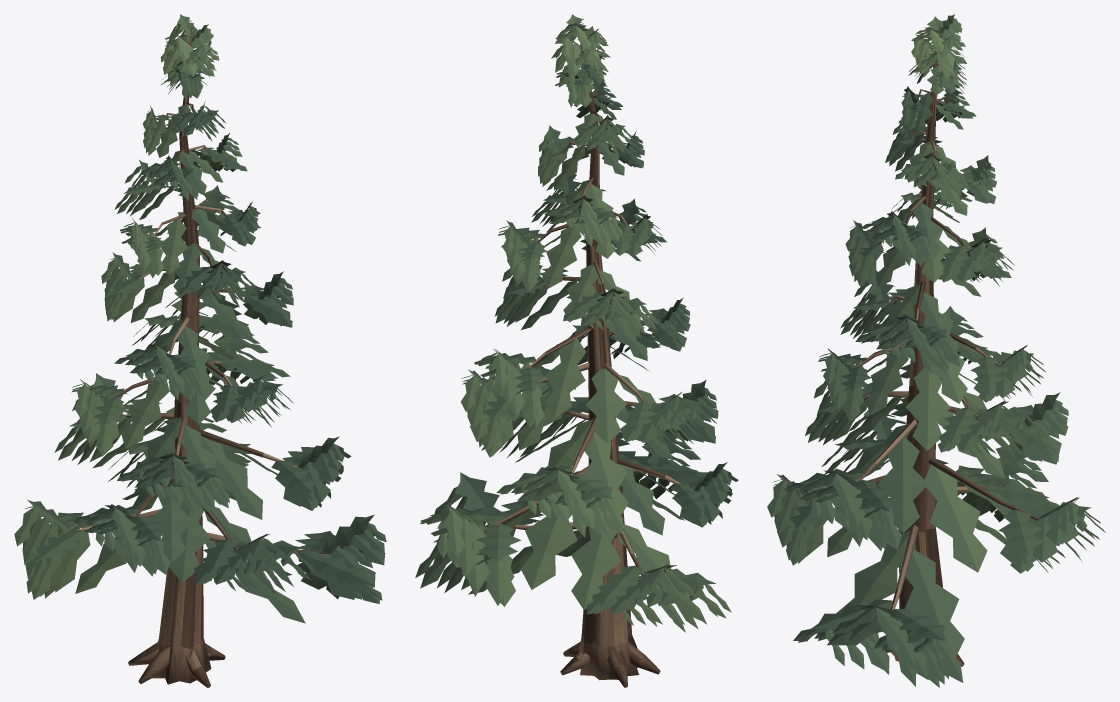
File: ridge-cedar.glb
3 views of the same model, side by side, from view 1: azimuth 30°, elevation 25°; view 2: azimuth 150°, elevation 25°; view 3: azimuth 270°, elevation 25° (orthographic).
Visible parts, largest first — view 1: Ridge Cedar Leaf pendant sprays, Ridge Cedar Trunk and buttresses, Ridge Cedar Branch scaffolds; view 2: Ridge Cedar Leaf pendant sprays, Ridge Cedar Trunk and buttresses, Ridge Cedar Branch scaffolds; view 3: Ridge Cedar Leaf pendant sprays, Ridge Cedar Trunk and buttresses, Ridge Cedar Branch scaffolds.
Part boxes in pixels (left/top/right/bottom): Ridge Cedar Leaf pendant sprays: left=14, top=14, right=386, bottom=623; Ridge Cedar Trunk and buttresses: left=128, top=27, right=225, bottom=687; Ridge Cedar Branch scaffolds: left=27, top=101, right=374, bottom=554; Ridge Cedar Leaf pendant sprays: left=415, top=14, right=738, bottom=632; Ridge Cedar Trunk and buttresses: left=560, top=43, right=660, bottom=687; Ridge Cedar Branch scaffolds: left=444, top=49, right=727, bottom=575; Ridge Cedar Leaf pendant sprays: left=767, top=14, right=1105, bottom=687; Ridge Cedar Trunk and buttresses: left=883, top=25, right=964, bottom=666; Ridge Cedar Branch scaffolds: left=776, top=50, right=1079, bottom=611.
Bounding box in the file's own units: 4.66 × 8.92 × 4.22.
3 materials, 1 textured.
